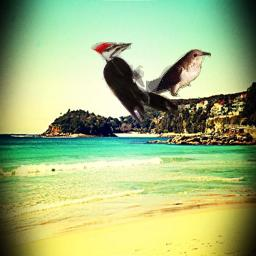Cuckoo: (146, 49, 211, 97)
Woodpecker: (91, 42, 188, 126)
